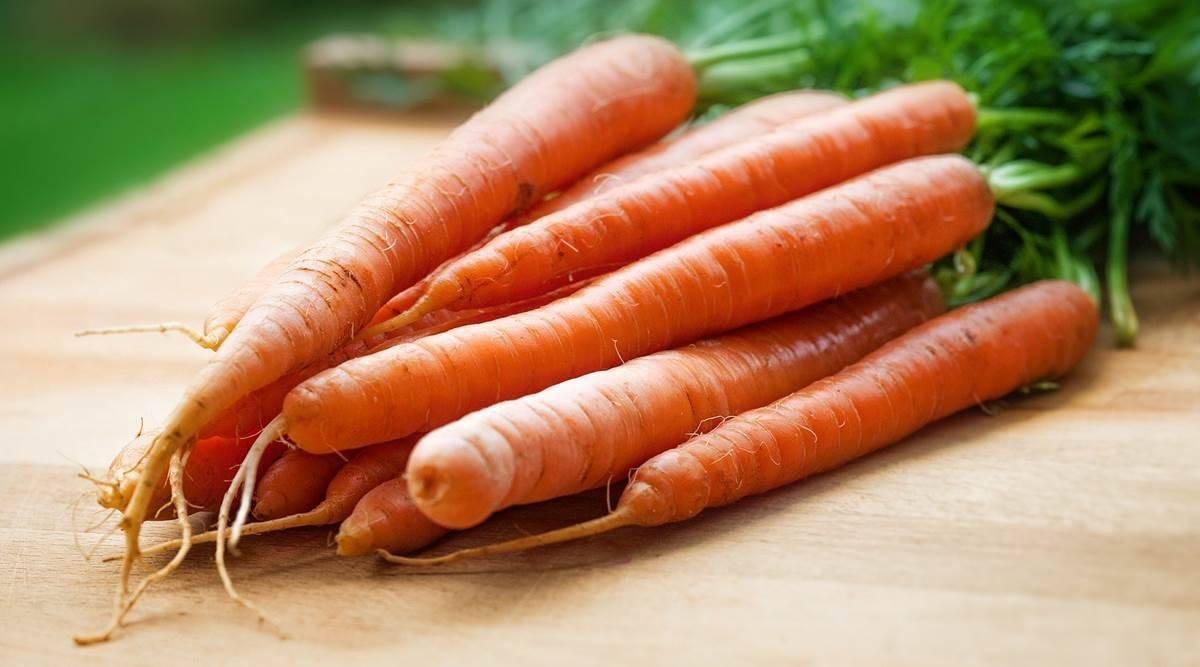carrot: (107, 33, 1123, 565), (298, 203, 1093, 462)
